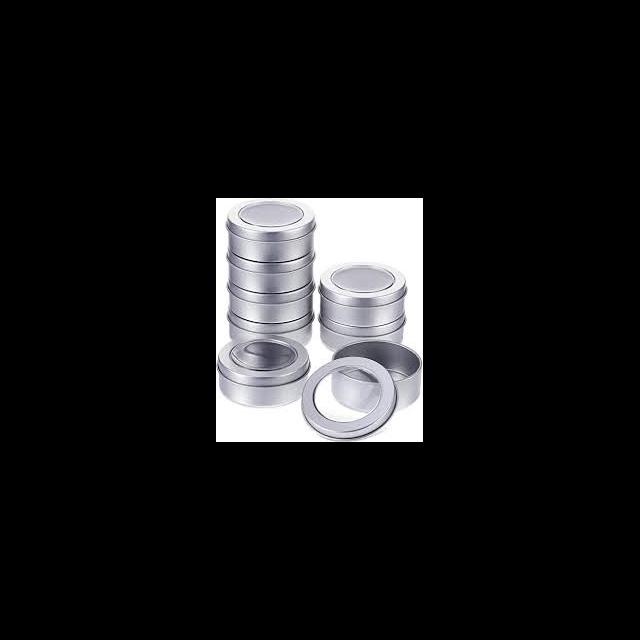metal: (302, 355, 398, 439), (216, 334, 310, 403), (332, 340, 421, 411), (226, 199, 316, 261), (319, 261, 406, 325), (228, 246, 312, 292), (226, 280, 314, 322), (320, 310, 406, 352), (226, 310, 312, 345)
